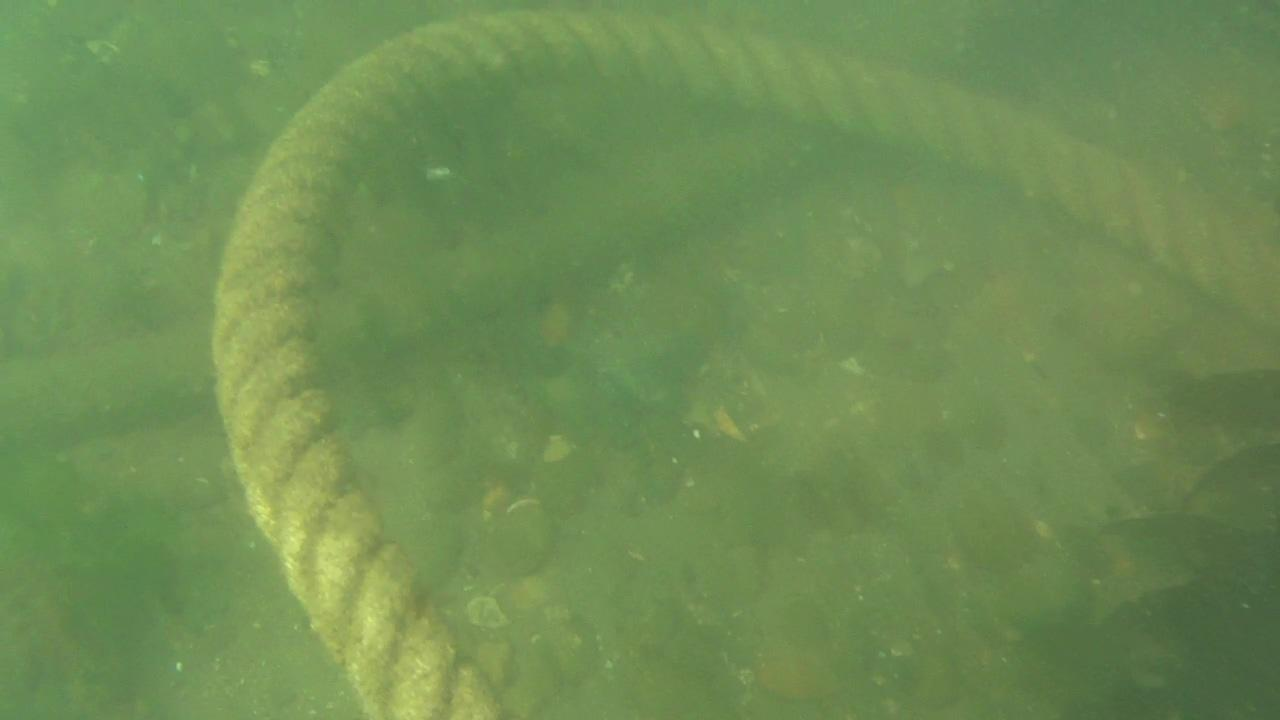rope: (208, 7, 1280, 720)
